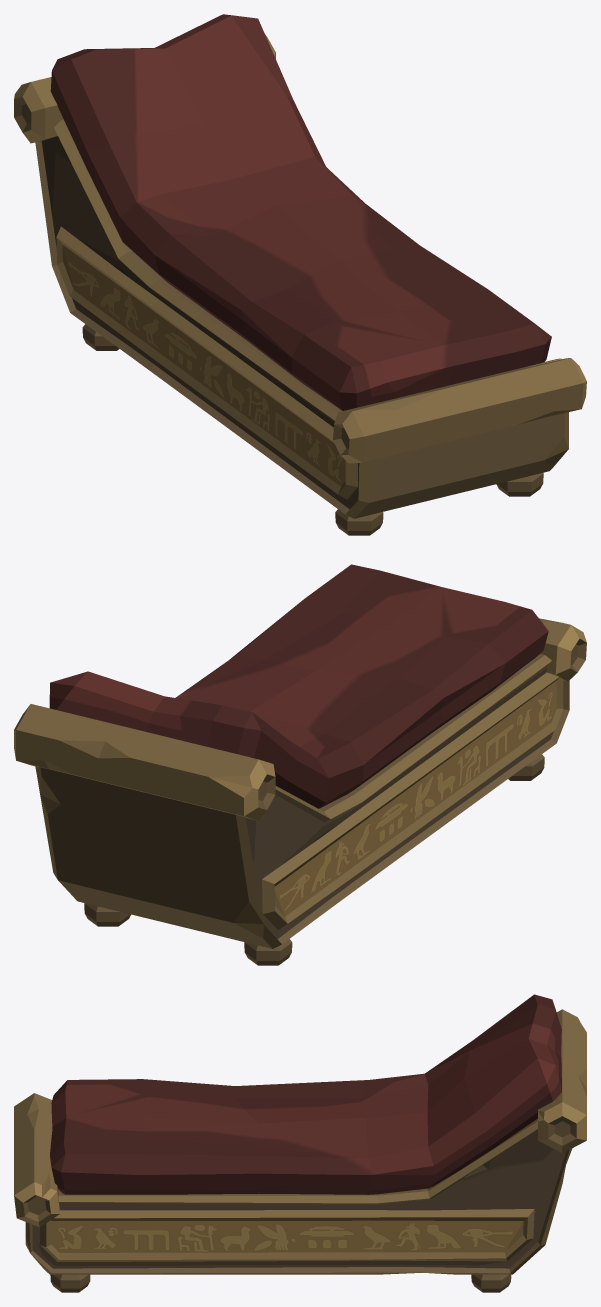
The model's file is SM_Prop_Chair_05.fbx.
The picture shows the model from 3 angles, top to bottom: view 1: azimuth 30°, elevation 25°; view 2: azimuth 150°, elevation 25°; view 3: azimuth 270°, elevation 25°; orthographic projection. The views are drawn at different scales.
Visible parts, largest first — view 1: SM_Prop_Chair_05; view 2: SM_Prop_Chair_05; view 3: SM_Prop_Chair_05.
Boxes of the visible parts, bbox=[...] form: SM_Prop_Chair_05: bbox=[14, 14, 586, 535]; SM_Prop_Chair_05: bbox=[14, 564, 586, 965]; SM_Prop_Chair_05: bbox=[14, 994, 586, 1292].
Size of the model in its own units: 94.83 by 100 by 231.
